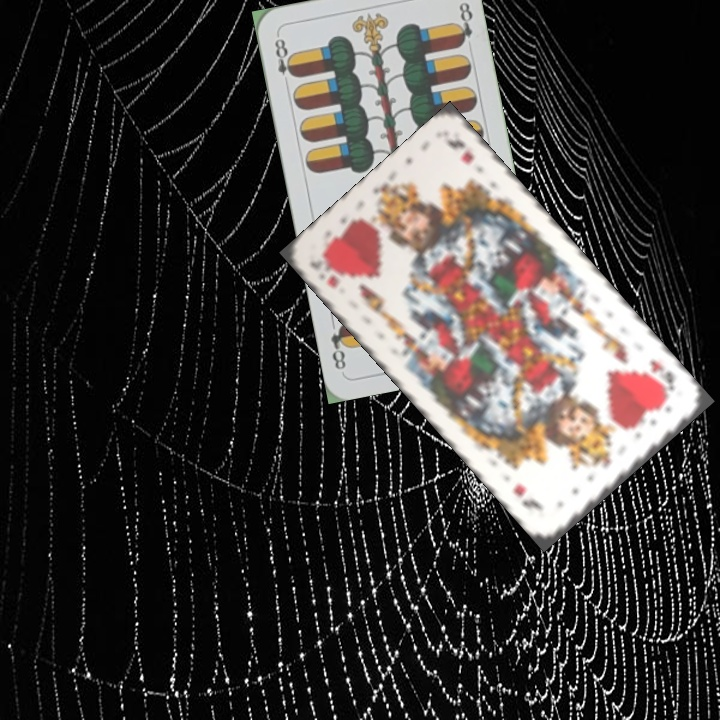E8: (270, 31, 299, 90)
HK: (641, 355, 677, 400), (306, 250, 345, 291)
